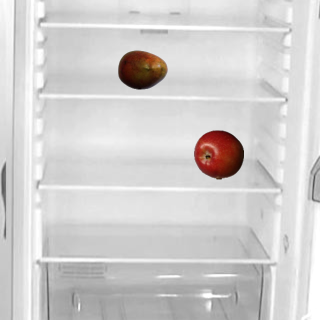Apple Braeburn: (193, 129, 243, 179)
Mango Red: (117, 44, 167, 94)
